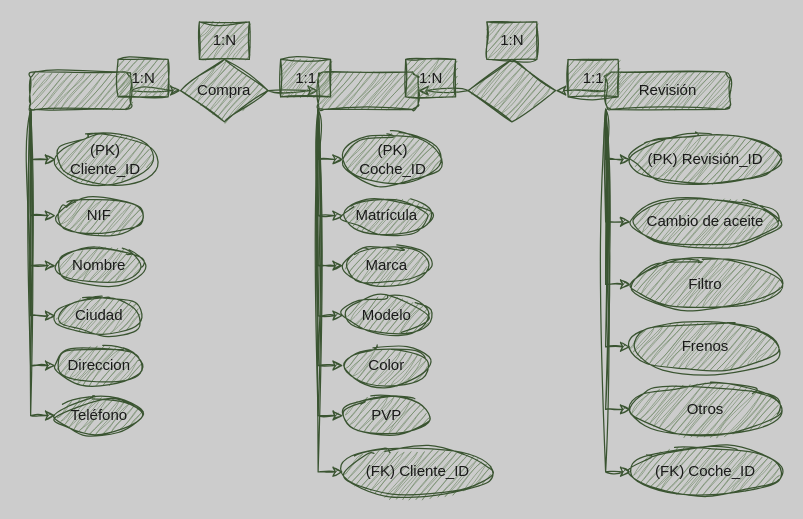
The diagram is 803 pixels wide and 519 high, and some of its shapes have lost their labels. Here are the shapes that lost their labels. From the top down, the centre of each, then its label:
At pixel 80 90: "Cliente".
At pixel 367 90: "Coche".
At pixel 511 90: "Revisa".
